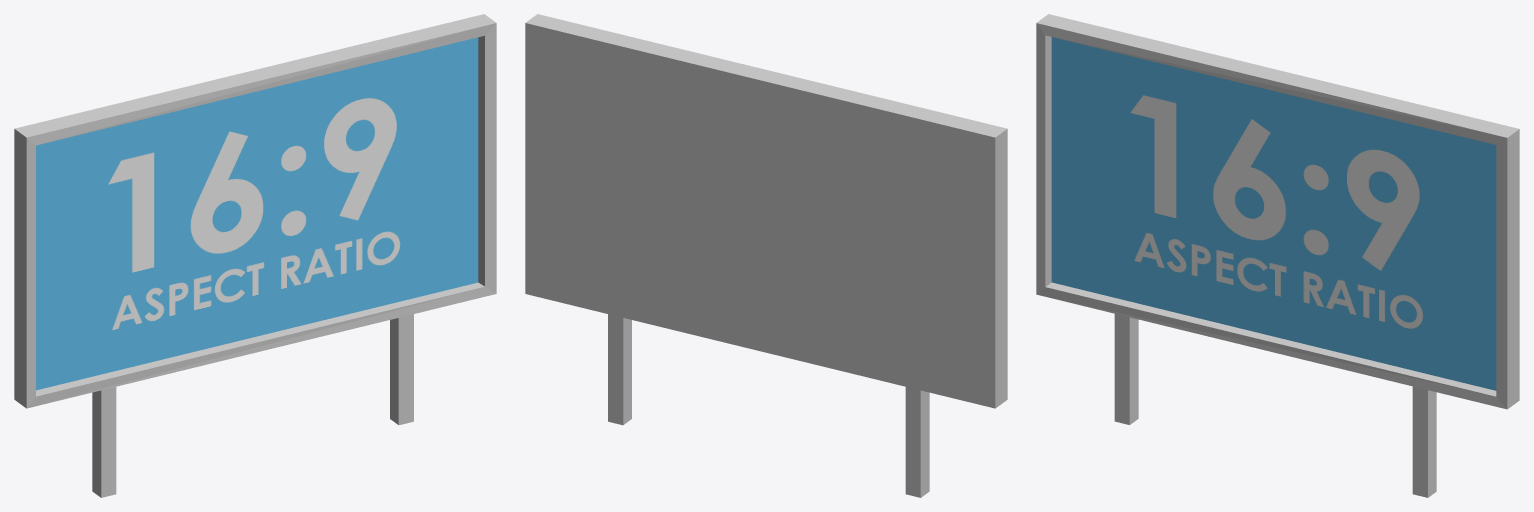
The picture shows the model from 3 angles, left to right: view 1: azimuth 30°, elevation 25°; view 2: azimuth 150°, elevation 25°; view 3: azimuth 330°, elevation 25°; orthographic projection.
Parts seen in each view (by area): view 1: Board 16-9, Frame 16-9; view 2: Frame 16-9; view 3: Board 16-9, Frame 16-9.
Part boxes in pixels (x1=…): Board 16-9: x1=36, y1=37, x2=478, y2=390; Frame 16-9: x1=14, y1=14, x2=496, y2=497; Frame 16-9: x1=525, y1=14, x2=1007, y2=497; Board 16-9: x1=1051, y1=37, x2=1496, y2=390; Frame 16-9: x1=1036, y1=14, x2=1519, y2=497.
Bounding box in the file's own units: 15.77 × 12.19 × 0.723.
Materials: 2 (1 with a texture image).
